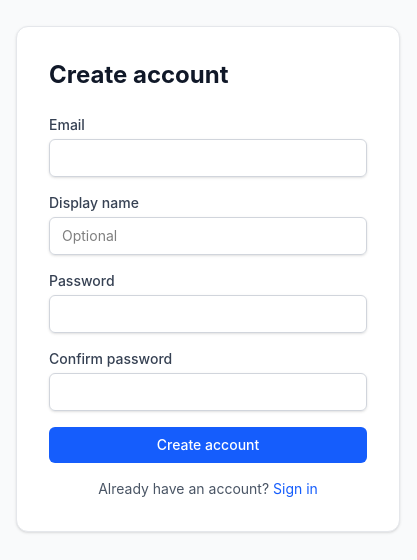
it: RegisterPage › shows validation error for invalid email format
Type "notanemail" into the field labelled "Email". click: (208, 158)
box: [49,139,367,177]
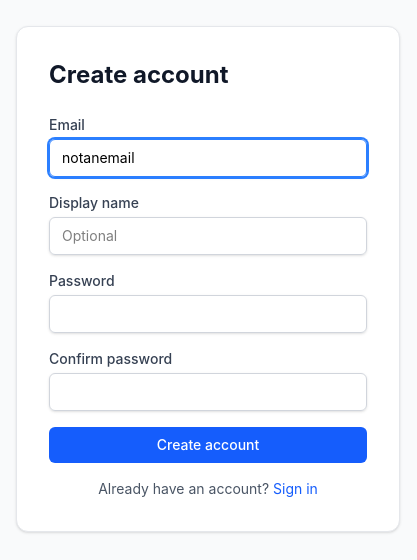
Type "password123" into the password field labelled "Password". click: (208, 314)
box: [49,295,367,333]
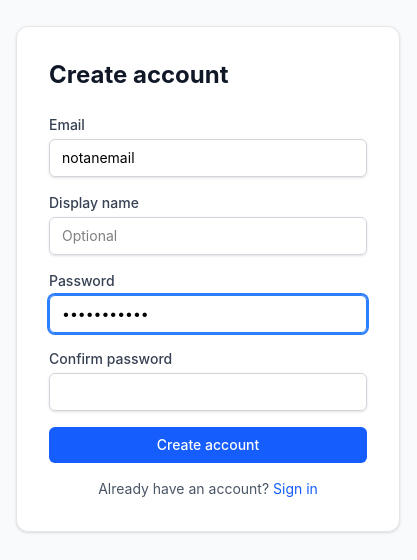
Type "password123" into the password field labelled "Confirm password". click: (208, 392)
box: [49,373,367,411]
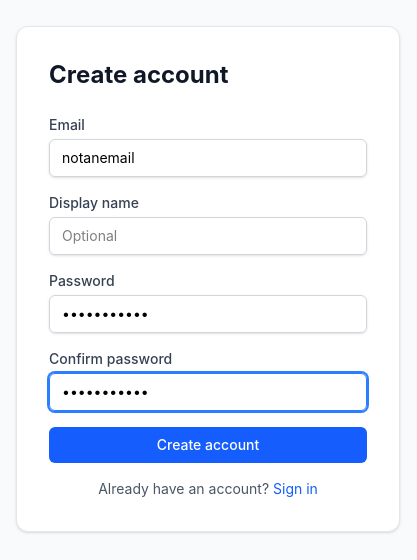
Click the button "Create account". click: click(208, 445)
box: [49,427,367,463]
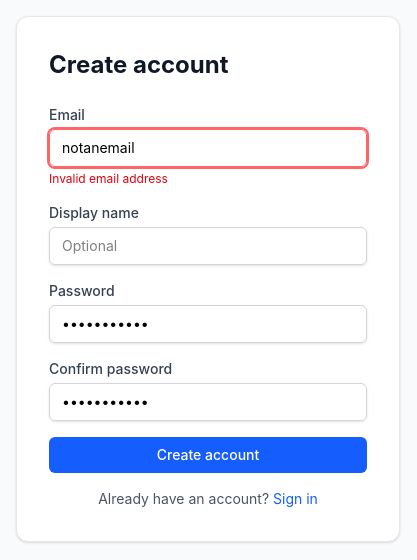
expect the text "Invalid email address" is shown: met, box [49,171,168,186]
